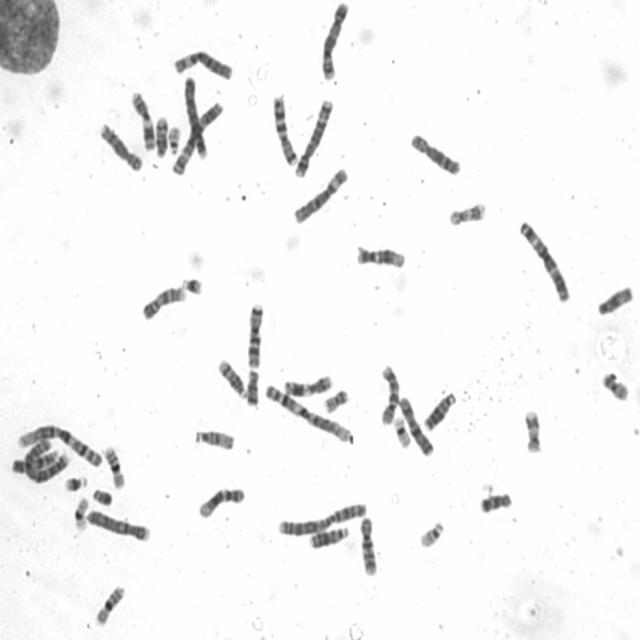A1: (261, 379, 354, 445), (14, 420, 105, 469)
A2: (274, 498, 368, 538), (19, 434, 70, 484)
A3: (515, 215, 572, 303), (169, 99, 225, 176)
B4: (84, 505, 152, 543), (181, 71, 209, 161)
B5: (292, 94, 336, 180), (319, 0, 352, 82)
C10: (377, 361, 401, 425), (357, 513, 379, 578)
C11: (128, 87, 157, 151), (280, 370, 334, 397)
C12: (194, 482, 247, 520), (353, 241, 409, 270)
C6: (291, 164, 349, 225), (171, 46, 235, 81)
C7: (270, 90, 301, 166), (245, 298, 264, 372)
C8: (96, 118, 144, 172), (408, 130, 463, 177)
C9: (138, 282, 186, 322), (9, 448, 60, 476)
D13: (421, 388, 457, 432), (306, 523, 351, 550)
D14: (215, 354, 248, 401), (152, 112, 169, 158)
D15: (594, 281, 635, 317), (191, 425, 237, 451)
E16: (92, 581, 128, 628), (100, 442, 127, 490)
E17: (445, 198, 486, 228), (522, 404, 544, 456)
E18: (476, 486, 514, 515), (244, 366, 261, 408)
F19: (71, 491, 91, 533), (390, 411, 412, 449)
F20: (598, 366, 631, 402), (320, 385, 350, 414)
G21: (178, 271, 205, 295), (62, 471, 90, 493)
G22: (416, 516, 446, 550), (166, 122, 183, 156)
X: (396, 392, 436, 457)
Y: (90, 484, 115, 507)
